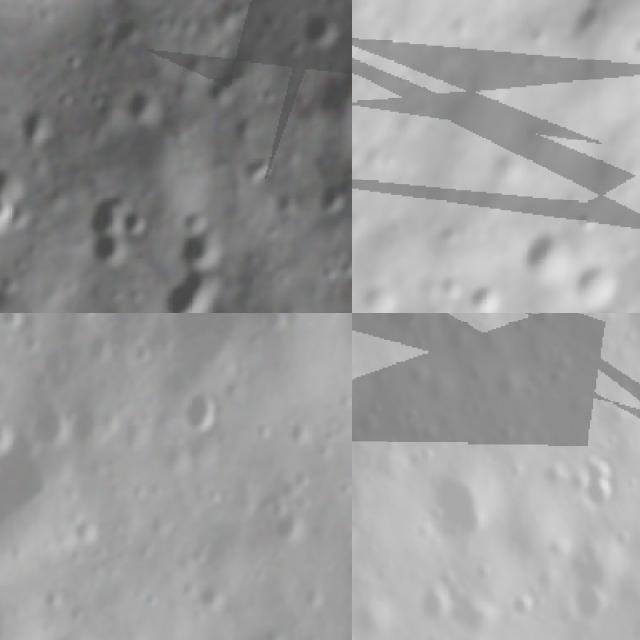crater: (159, 313, 245, 404), (504, 215, 588, 298), (428, 467, 492, 553), (557, 247, 629, 313), (175, 214, 229, 274), (118, 76, 175, 132), (162, 265, 221, 313), (80, 222, 134, 272), (558, 0, 614, 47), (461, 267, 517, 313), (233, 144, 277, 196), (16, 97, 60, 148), (29, 396, 70, 449), (300, 8, 345, 54), (587, 458, 621, 513), (307, 176, 346, 221), (567, 588, 613, 626), (179, 390, 217, 435), (265, 505, 303, 543), (417, 589, 457, 625), (192, 578, 227, 616), (120, 203, 151, 243), (370, 313, 421, 337), (81, 332, 112, 365), (508, 588, 544, 616), (40, 346, 66, 382), (283, 418, 310, 452), (73, 516, 99, 549), (298, 582, 324, 614), (126, 336, 152, 366), (40, 582, 62, 616), (96, 406, 120, 436), (625, 25, 640, 70), (539, 464, 564, 490), (0, 410, 12, 457), (568, 474, 588, 497), (252, 419, 270, 444), (527, 313, 555, 328), (510, 320, 533, 335)
